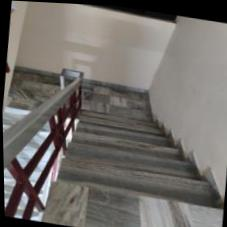Animal: (56, 133, 218, 216)
